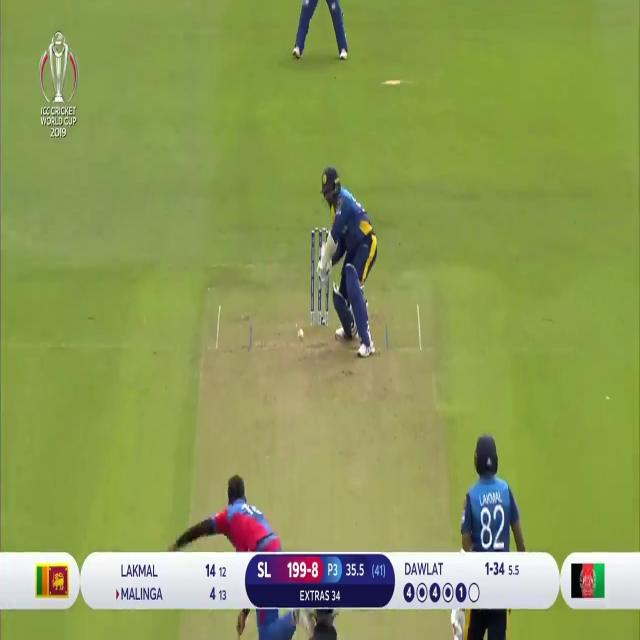ball: (296, 327, 306, 345)
